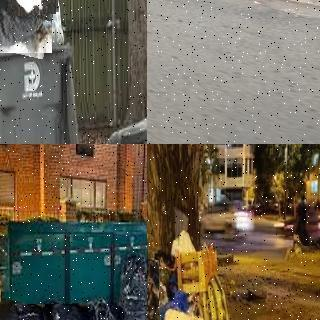Garbage: (0, 0, 55, 56), (117, 257, 147, 320), (198, 275, 228, 320), (0, 301, 55, 320), (82, 298, 121, 320), (4, 0, 57, 15), (147, 259, 160, 320), (44, 303, 90, 320), (161, 308, 203, 320)
